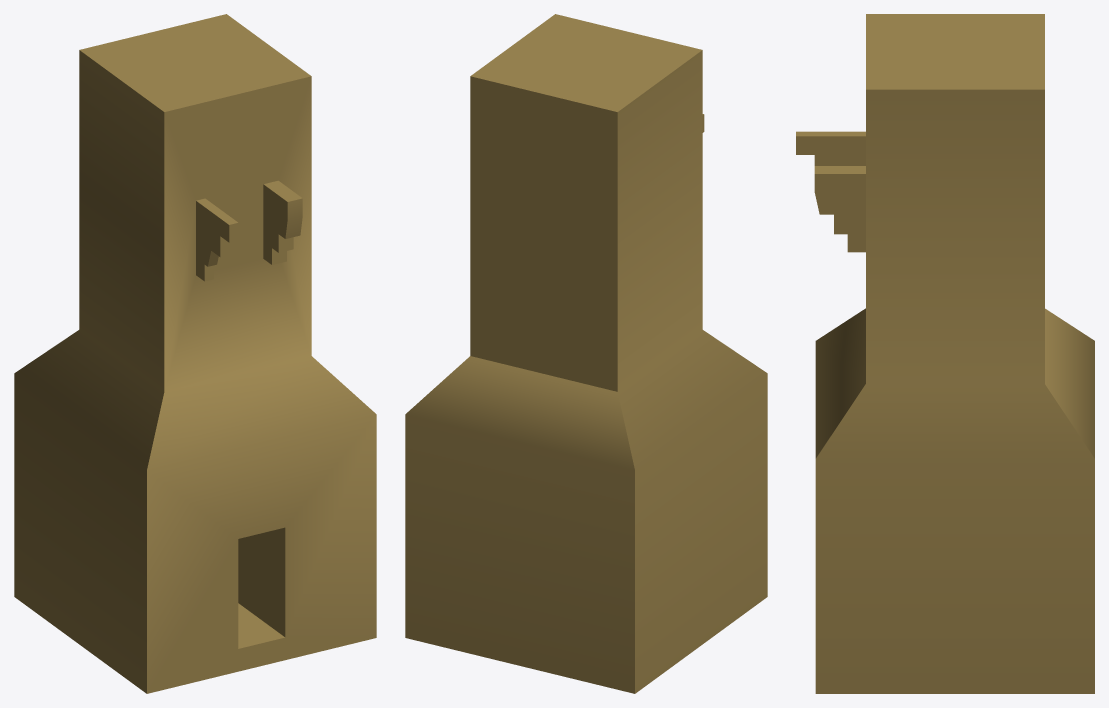
Rendered from desertRuin4.fbx.
3 renders of one model, left to right at view 1: azimuth 30°, elevation 25°; view 2: azimuth 150°, elevation 25°; view 3: azimuth 270°, elevation 25°, orthographic. The views are drawn at different scales.
Visible parts, largest first — view 1: desertRuin5:desertRuin4; view 2: desertRuin5:desertRuin4; view 3: desertRuin5:desertRuin4.
Part boxes in pixels (box(x1,y1,x2,y2)): desertRuin5:desertRuin4: box(14, 14, 376, 693); desertRuin5:desertRuin4: box(405, 14, 767, 693); desertRuin5:desertRuin4: box(796, 14, 1094, 693).
Size of the model in its own units: 19.03 by 43.86 by 20.37.
